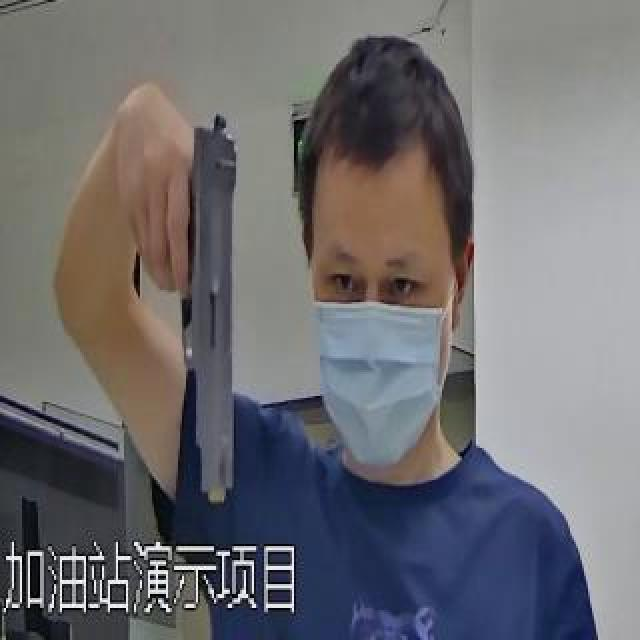Guns: (129, 73, 289, 530)
